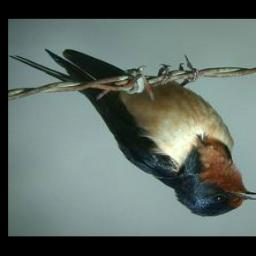Swallow: (8, 49, 256, 218)
